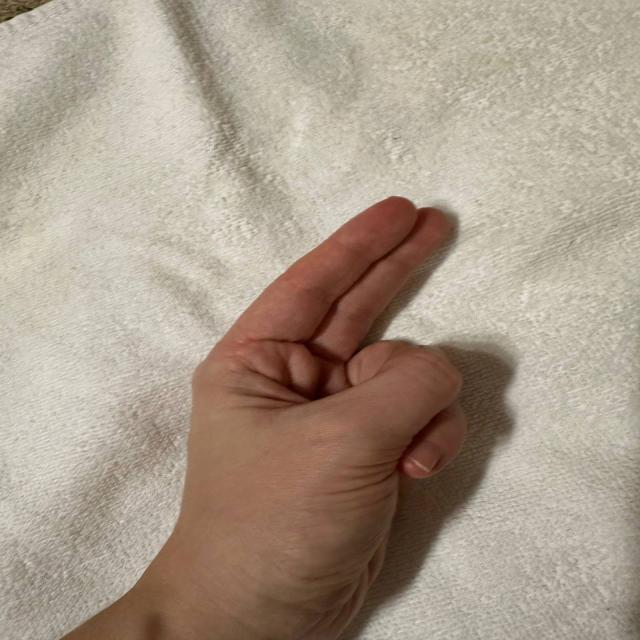ts: (187, 188, 531, 614)
